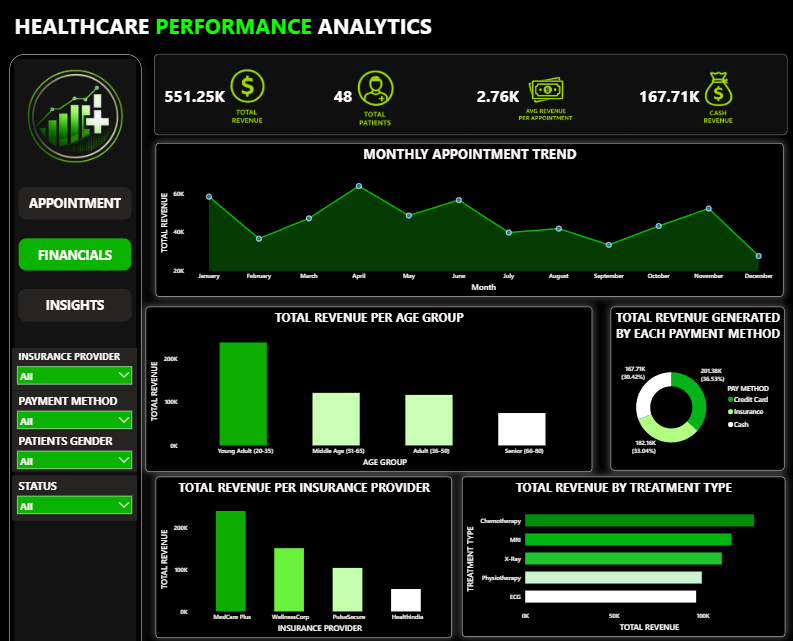

The dashboard page shown, as its layout file describes it:
{"tool":"powerbi","page":{"name":"FINANCIALS","canvas":[1600,1300],"ordinal":1},"visuals":[{"type":"shape","box":[24,112,264,1366],"z":0},{"type":"cardVisual","fields":{"Data":["Sum(hospital_db billing.amount)","Count(hospital_db appointments.patient_id)","hospital_db patients.AVERAGE REVENUE PER APPOINTMENT","hospital_db patients.Cash Revenue"]},"box":[298,96,1302,196],"z":1000},{"type":"textbox","box":[30,20,1278,76],"z":2000},{"type":"image","box":[54,130,202,202],"z":3000},{"type":"pageNavigator","box":[42.5,377.5,227.5,272.5],"z":4000},{"type":"slicer","fields":{"Values":["hospital_db patients.insurance_provider"]},"box":[30,700,250,84],"z":5000},{"type":"slicer","fields":{"Values":["hospital_db billing.payment_method"]},"box":[30,784,250,80],"z":6000},{"type":"slicer","fields":{"Values":["hospital_db patients.gender"]},"box":[30,864,250,82],"z":7000},{"type":"slicer","title":"STATUS","fields":{"Values":["hospital_db billing.payment_status"]},"box":[30,956,250,90],"z":8000},{"type":"columnChart","title":"TOTAL REVENUE PER AGE GROUP","fields":{"Y":["Sum(hospital_db treatments.cost)"],"Category":["hospital_db patients.Age Group"]},"box":[297.5,617.5,892.5,330],"z":9000},{"type":"lineChart","title":"\tMONTHLY APPOINTMENT TREND","fields":{"Category":["hospital_db billing.bill_date.Variation.Date Hierarchy.Month"],"Y":["Sum(hospital_db billing.amount)"]},"box":[317.5,290,1255,307.5],"z":10000},{"type":"donutChart","title":"TOTAL REVENUE GENERATED BY EACH PAYMENT METHOD","fields":{"Category":["hospital_db billing.payment_method"],"Y":["Sum(hospital_db billing.amount)"]},"box":[1227.5,617.5,347.5,327.5],"z":11000},{"type":"columnChart","title":"TOTAL REVENUE PER INSURANCE PROVIDER","fields":{"Y":["Sum(hospital_db billing.amount)"],"Category":["hospital_db patients.insurance_provider"]},"box":[317.5,957.5,592,322],"z":12000},{"type":"barChart","title":"TOTAL REVENUE BY TREATMENT TYPE","fields":{"Y":["Sum(hospital_db billing.amount)"],"Category":["hospital_db treatments.treatment_type"]},"box":[930,958,646,320],"z":13000},{"type":"image","box":[428,130,140,142],"z":13001},{"type":"image","box":[708,124,92,160],"z":13002},{"type":"image","box":[1038,104,118,196],"z":13003},{"type":"image","box":[1386,136,122,136],"z":13004}]}

Visuals, with their boxes in screenshot pixels (x1, y1, x2, y2), scaled from the page's 1600x1300 canvas onto the 793x641 screenshot:
shape: x1=12 y1=55 x2=143 y2=640
cardVisual - Sum(hospital_db billing.amount) x Count(hospital_db appointments.patient_id): x1=148 y1=47 x2=792 y2=144
textbox: x1=15 y1=10 x2=648 y2=47
image: x1=27 y1=64 x2=127 y2=164
pageNavigator: x1=21 y1=186 x2=134 y2=320
slicer - hospital_db patients.insurance_provider: x1=15 y1=345 x2=139 y2=387
slicer - hospital_db billing.payment_method: x1=15 y1=387 x2=139 y2=426
slicer - hospital_db patients.gender: x1=15 y1=426 x2=139 y2=466
"STATUS" slicer: x1=15 y1=471 x2=139 y2=516
"TOTAL REVENUE PER AGE GROUP" columnChart: x1=147 y1=304 x2=590 y2=467
"	MONTHLY APPOINTMENT TREND" lineChart: x1=157 y1=143 x2=779 y2=295
"TOTAL REVENUE GENERATED BY EACH PAYMENT METHOD" donutChart: x1=608 y1=304 x2=781 y2=466
"TOTAL REVENUE PER INSURANCE PROVIDER" columnChart: x1=157 y1=472 x2=451 y2=631
"TOTAL REVENUE BY TREATMENT TYPE" barChart: x1=461 y1=472 x2=781 y2=630
image: x1=212 y1=64 x2=282 y2=134
image: x1=351 y1=61 x2=396 y2=140
image: x1=514 y1=51 x2=573 y2=148
image: x1=687 y1=67 x2=747 y2=134
